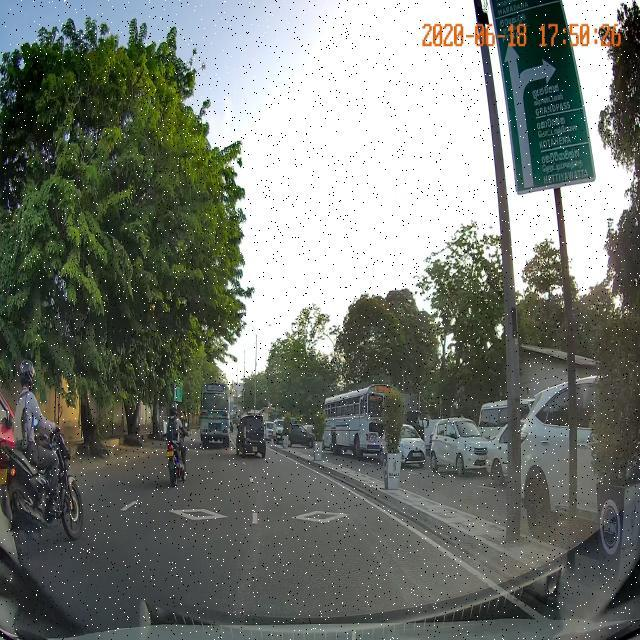diamond: (105, 494, 269, 553)
